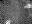person: (5, 19, 13, 24), (26, 3, 32, 9)
